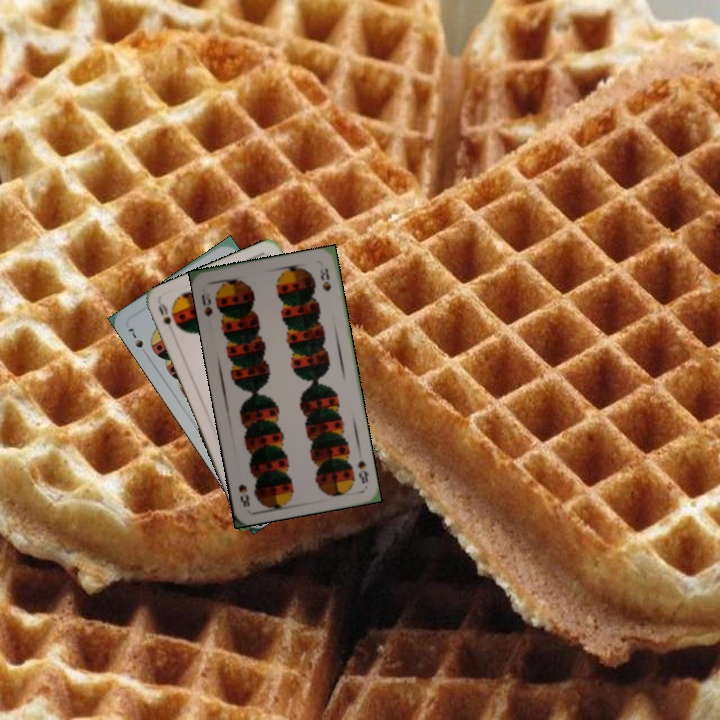S7: (123, 324, 146, 351)
S8: (197, 288, 215, 319), (353, 456, 371, 486)
SO: (154, 300, 173, 328)
